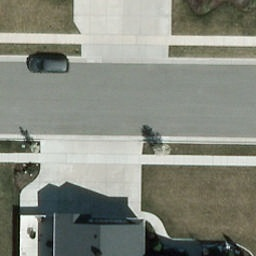car: (25, 56, 70, 74)
